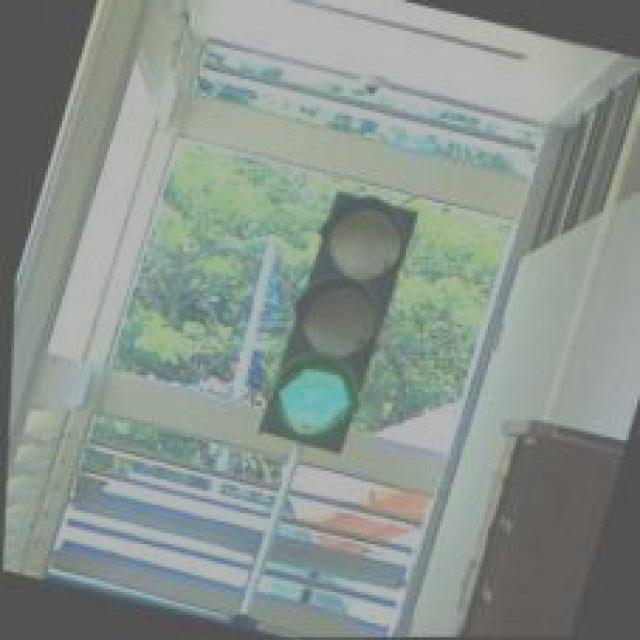Green: (254, 182, 426, 448)
